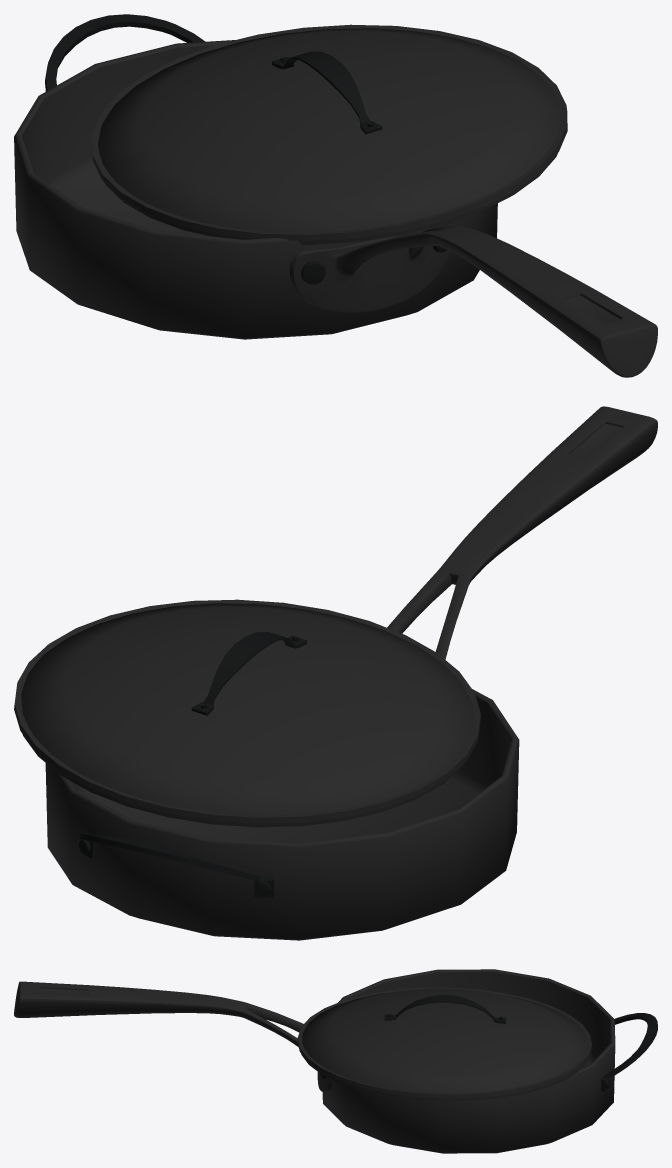
Rendered from Pot001.FBX.
The picture shows the model from 3 angles, top to bottom: view 1: azimuth 30°, elevation 25°; view 2: azimuth 150°, elevation 25°; view 3: azimuth 270°, elevation 25°; orthographic projection. The views are drawn at different scales.
Parts seen in each view (by area): view 1: Pot001; view 2: Pot001; view 3: Pot001.
Boxes of the visible parts, x1,y1,x2,y2 form: Pot001: (14,14,657,377); Pot001: (14,406,657,940); Pot001: (14,969,657,1153).
Size of the model in its own units: 0.7492 by 0.2813 by 1.45.
Materials: 2 (2 with a texture image).
